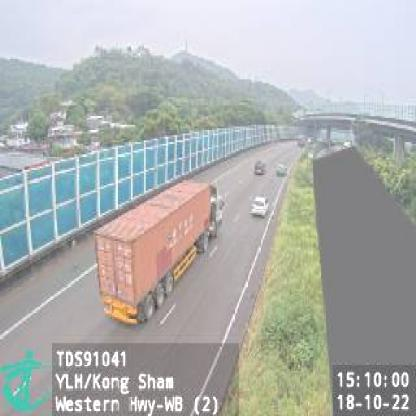Car: (251, 195, 271, 219), (255, 159, 268, 176), (275, 162, 287, 176)
Truck: (94, 178, 226, 326)
